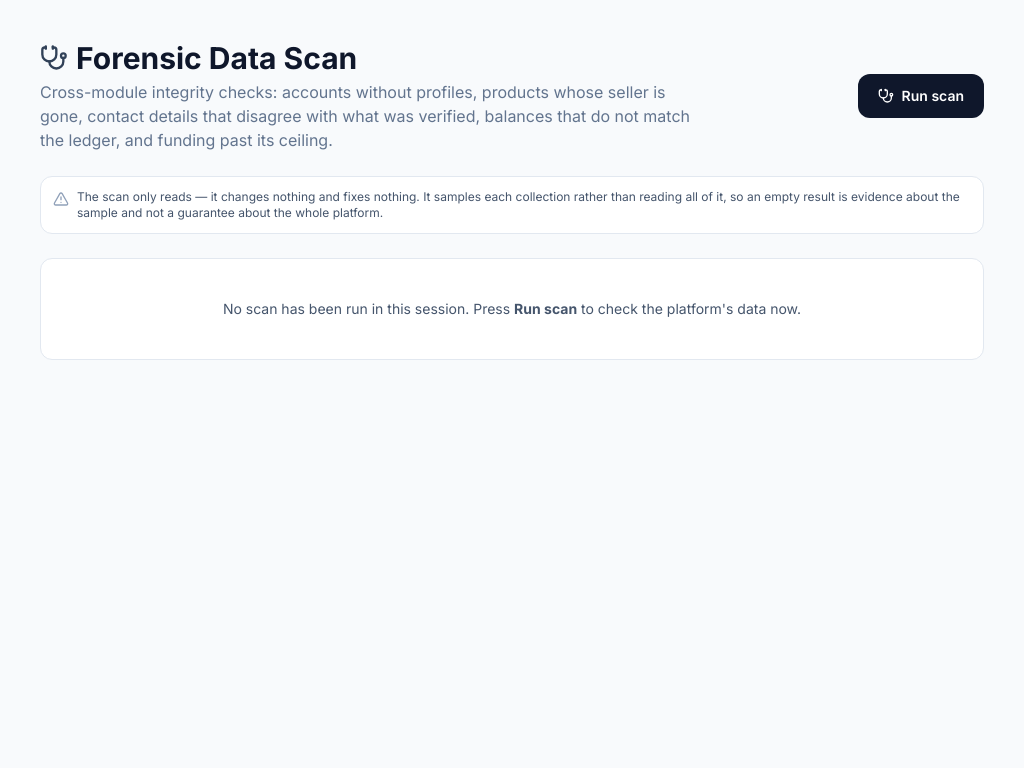
Test: #475 — the one finding is not buried › THE AFFECTED-RECORDS HEADING COUNTS 1, NOT 190
Click the button "Run scan" at (921, 96), box top-left (858, 74), bottom-right (984, 118)
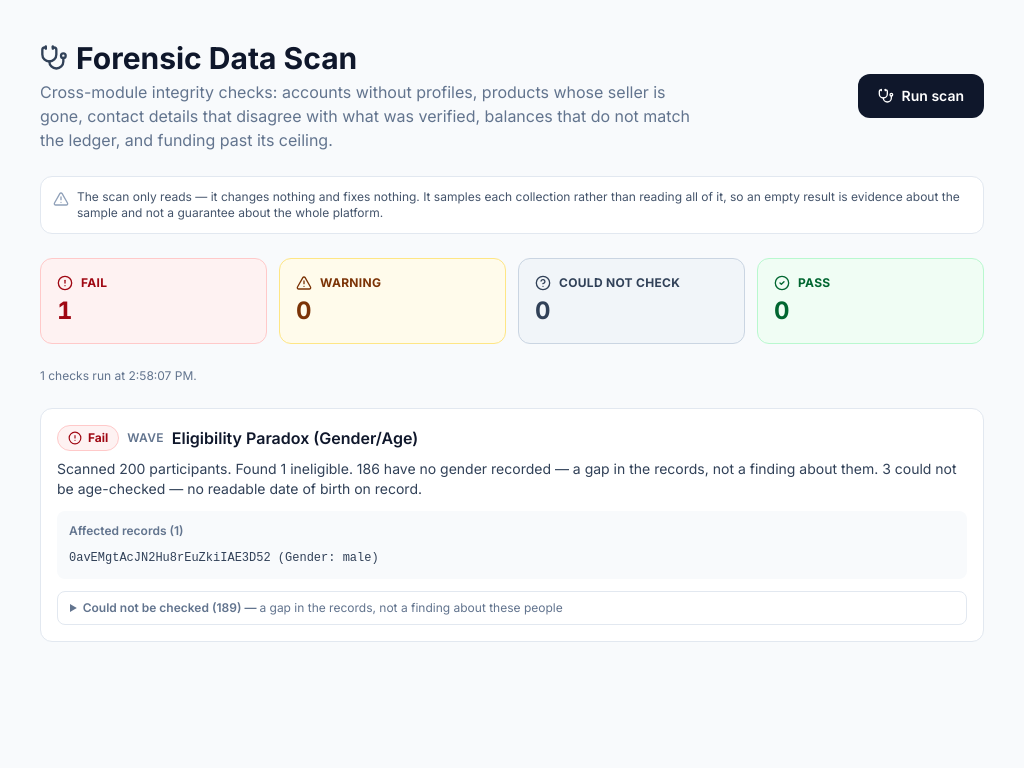
Now the text "Affected records (1)" is shown, box top-left (69, 523), bottom-right (184, 538)
